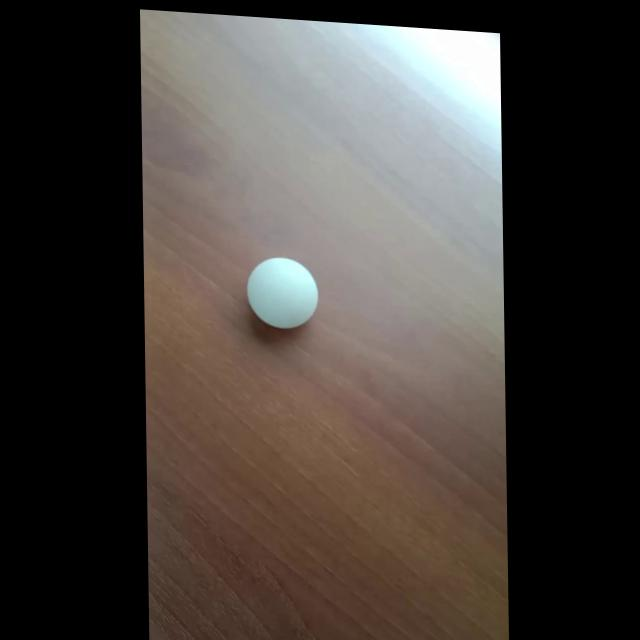white ball: (246, 254, 319, 331)
